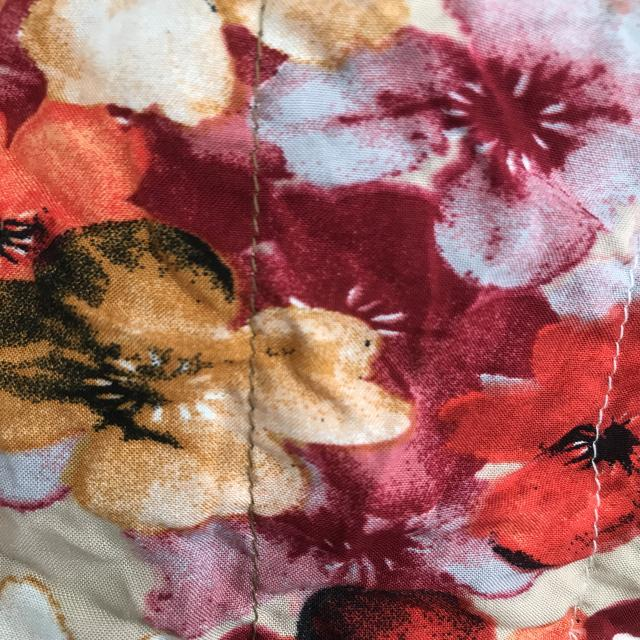good: (235, 349, 275, 586), (246, 165, 276, 300), (584, 478, 608, 547), (604, 332, 626, 406)
